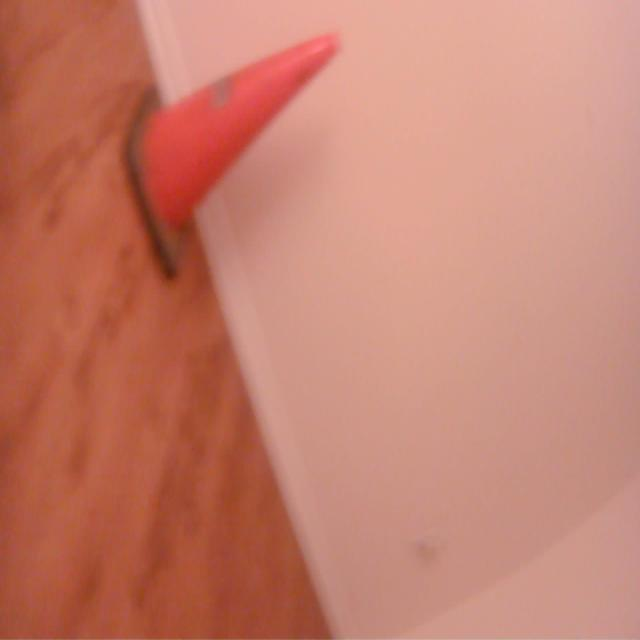traffic cone: (121, 25, 348, 290)
